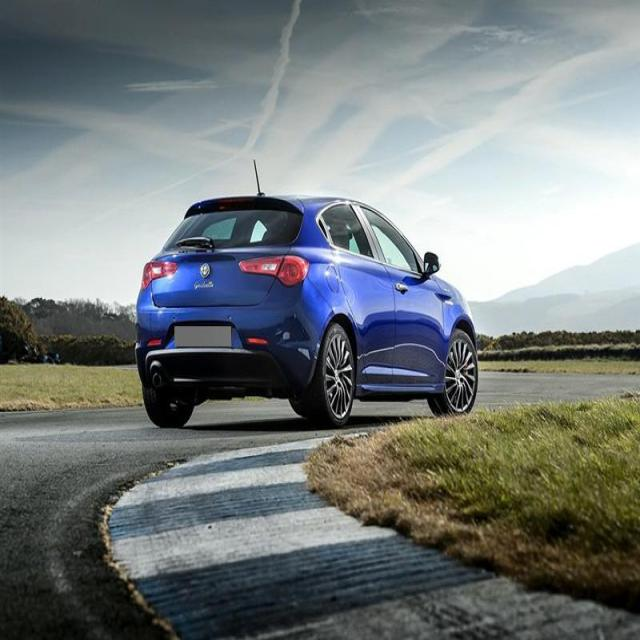back_glass: (162, 197, 304, 254)
back_left_side_light: (141, 257, 179, 289)
back_right_side_light: (238, 254, 311, 288)
front_right_side_door: (357, 201, 445, 389)
front_right_side_mirror: (423, 250, 440, 284)
rear_bumper: (135, 334, 320, 392)
wheel: (304, 320, 355, 424), (426, 328, 479, 418), (142, 385, 195, 428)
